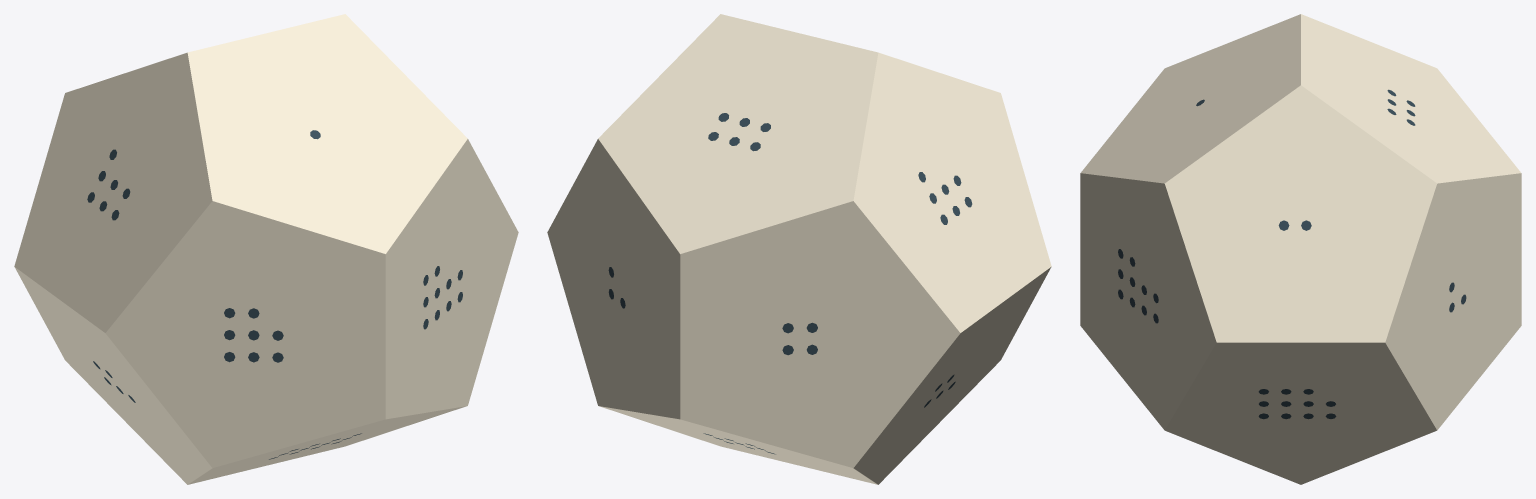
File: tabletop-game-components-d12-dodecahedron-f87385ea__20842.glb
3 renders of one model, left to right at view 1: azimuth 30°, elevation 25°; view 2: azimuth 150°, elevation 25°; view 3: azimuth 270°, elevation 25°, orthographic. The views are drawn at different scales.
Visible parts, largest first — view 1: d12-dodecahedron; view 2: d12-dodecahedron; view 3: d12-dodecahedron.
Boxes of the visible parts, x1,y1,x2,y2 form: d12-dodecahedron: [14, 14, 518, 484]; d12-dodecahedron: [547, 14, 1051, 484]; d12-dodecahedron: [1080, 14, 1521, 484].
Size of the model in its own units: 0.0355 by 0.0355 by 0.0355.
